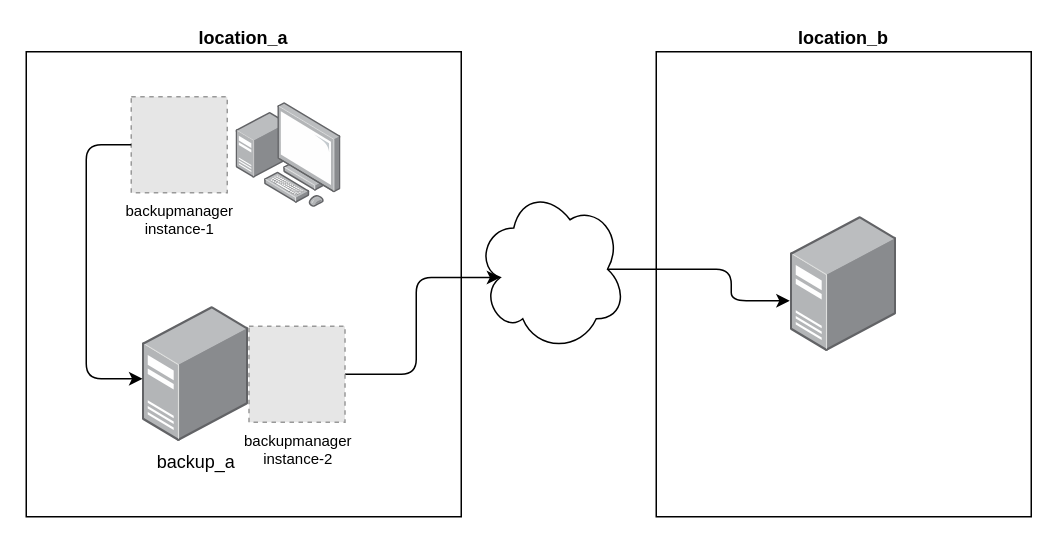
This 1058x543 diagram has some shape labels left out. Grey dashed boxes stand in for pictures. The shapes that lost their labels are listed below. From the top down, each one's centre as x and y in pixels, then its label:
At (288,154): "local_desktop".
At (843,283): "backup_b".
